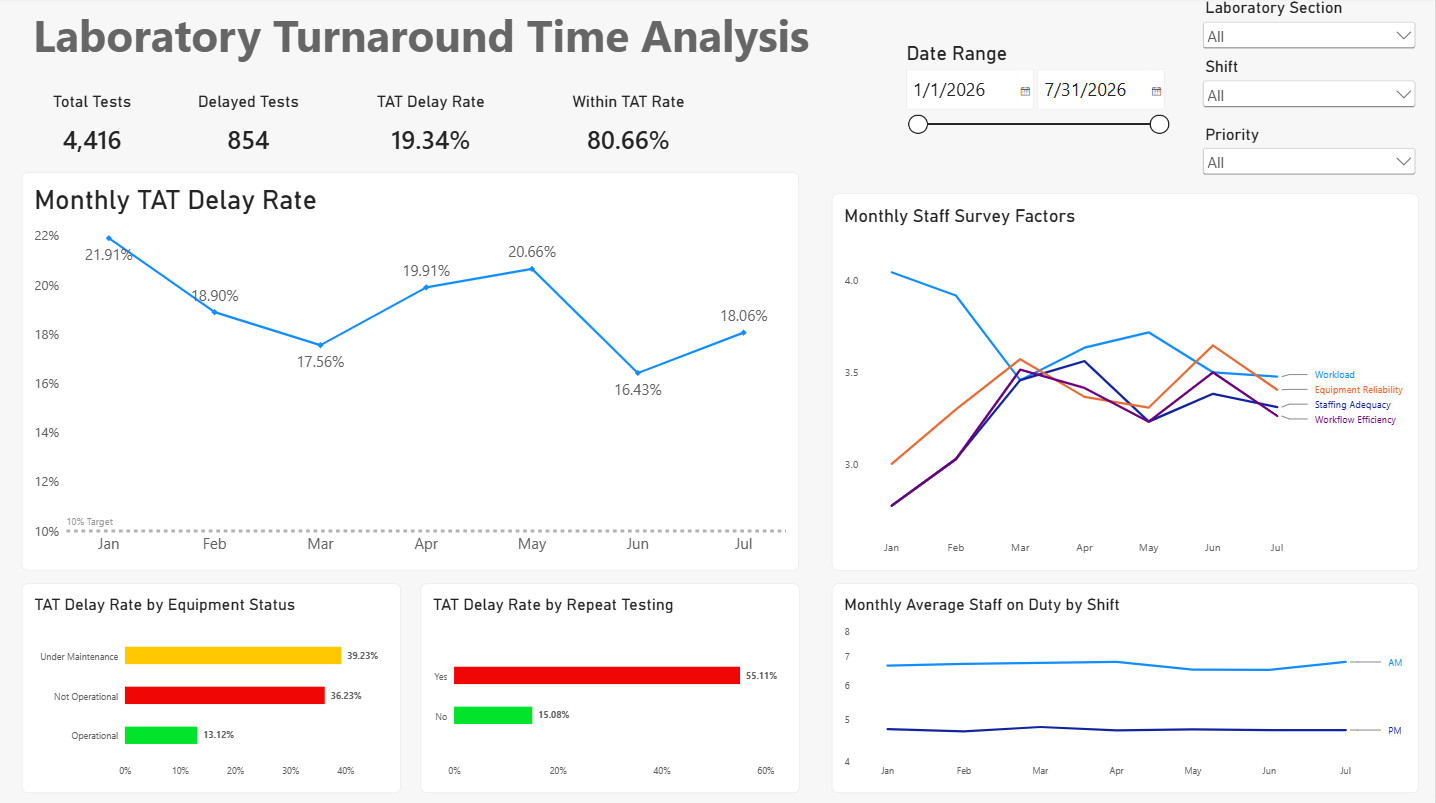

What the dashboard file says about the page in this screenshot:
{"tool":"powerbi","page":{"name":"Page 1","canvas":[1920,1080],"ordinal":0},"visuals":[{"type":"textbox","box":[46,12,1068,116],"z":0},{"type":"cardVisual","title":"Total Tests","fields":{"Data":["Lab Data.Total Tests Display"]},"box":[32,128,188,92],"z":1000},{"type":"cardVisual","title":"Delayed Tests","fields":{"Data":["Lab Data.Delayed Tests"]},"box":[240,128,188,92],"z":2000},{"type":"cardVisual","title":"TAT Delay Rate","fields":{"Data":["Lab Data.TAT Delay Rate"]},"box":[484,128,188,92],"z":3000},{"type":"cardVisual","title":"Within TAT Rate","fields":{"Data":["Lab Data.Within TAT Rate"]},"box":[748,128,188,92],"z":4000},{"type":"lineChart","title":"Monthly TAT Delay Rate","fields":{"Category":["Calendar.Month"],"Y":["Lab Data.TAT Delay Rate"]},"box":[32,236,1038,532],"z":5000},{"type":"lineChart","title":"Monthly Staff Survey Factors","fields":{"Category":["Calendar.Month"],"Y":["Staff Survey.Average Workload","Staff Survey.Average Staffing Adequacy","Staff Survey.Average Equipment Reliability","Staff Survey.Average Workflow Efficiency"]},"box":[1114,264,784,504],"z":6000},{"type":"clusteredBarChart","title":"TAT Delay Rate by Equipment Status","fields":{"Category":["Lab Data.Equipment Status"],"Y":["Lab Data.TAT Delay Rate"]},"box":[32,784,506,280],"z":7000},{"type":"clusteredBarChart","fields":{"Category":["Lab Data.Repeat Testing"],"Y":["Lab Data.TAT Delay Rate"]},"box":[564,784,506,280],"z":8000},{"type":"lineChart","title":"Monthly Average Staff on Duty by Shift","fields":{"Category":["Calendar.Month"],"Series":["Shift Reference.Shift"],"Y":["Lab Data.Average Staff on Duty"]},"box":[1114,784,784,280],"z":9000},{"type":"slicer","fields":{"Values":["Lab Data.Priority"]},"box":[1604,172,294,84],"z":10000},{"type":"slicer","fields":{"Values":["Shift Reference.Shift"]},"box":[1604,82,294,90],"z":11000},{"type":"slicer","fields":{"Values":["Lab Data.Laboratory Section"]},"box":[1604,4,294,78],"z":12000},{"type":"slicer","fields":{"Values":["Lab Data.Test Date"]},"box":[1206,60,362,226],"z":13000}]}

Visuals, with their boxes in screenshot pixels (x1, y1, x2, y2), scaled from the page's 1920x1080 canvas onto the 1436x803 screenshot:
textbox: (x1=34, y1=9, x2=833, y2=95)
"Total Tests" cardVisual: (x1=24, y1=95, x2=165, y2=164)
"Delayed Tests" cardVisual: (x1=180, y1=95, x2=320, y2=164)
"TAT Delay Rate" cardVisual: (x1=362, y1=95, x2=503, y2=164)
"Within TAT Rate" cardVisual: (x1=559, y1=95, x2=700, y2=164)
"Monthly TAT Delay Rate" lineChart: (x1=24, y1=175, x2=800, y2=571)
"Monthly Staff Survey Factors" lineChart: (x1=833, y1=196, x2=1420, y2=571)
"TAT Delay Rate by Equipment Status" clusteredBarChart: (x1=24, y1=583, x2=402, y2=791)
clusteredBarChart - Lab Data.Repeat Testing x Lab Data.TAT Delay Rate: (x1=422, y1=583, x2=800, y2=791)
"Monthly Average Staff on Duty by Shift" lineChart: (x1=833, y1=583, x2=1420, y2=791)
slicer - Lab Data.Priority: (x1=1200, y1=128, x2=1420, y2=190)
slicer - Shift Reference.Shift: (x1=1200, y1=61, x2=1420, y2=128)
slicer - Lab Data.Laboratory Section: (x1=1200, y1=3, x2=1420, y2=61)
slicer - Lab Data.Test Date: (x1=902, y1=45, x2=1173, y2=213)
